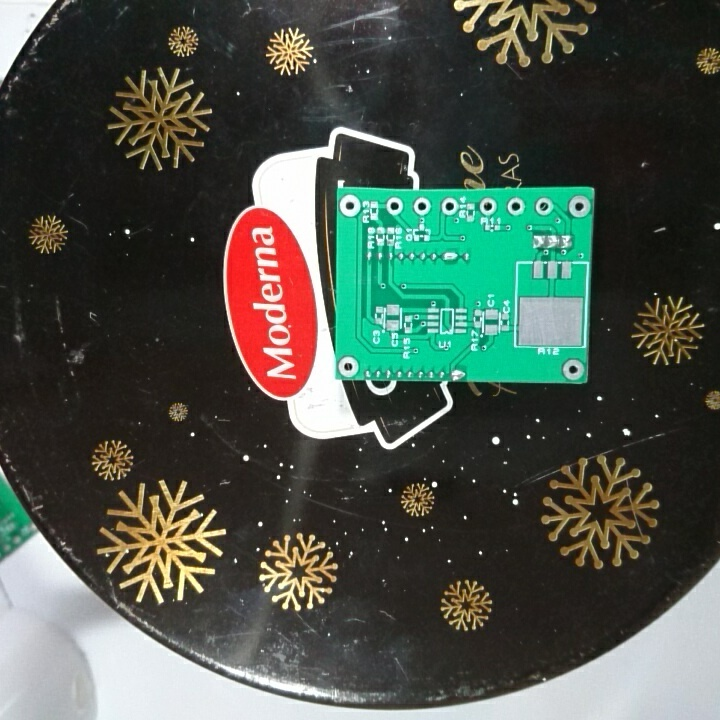F: (566, 194, 591, 220), (338, 192, 362, 218), (559, 357, 585, 381), (337, 354, 360, 379), (533, 193, 555, 218), (411, 195, 433, 218), (477, 195, 499, 217), (383, 195, 405, 217), (505, 197, 527, 218), (439, 195, 459, 216)
P: (440, 248, 460, 266), (448, 367, 468, 383)
